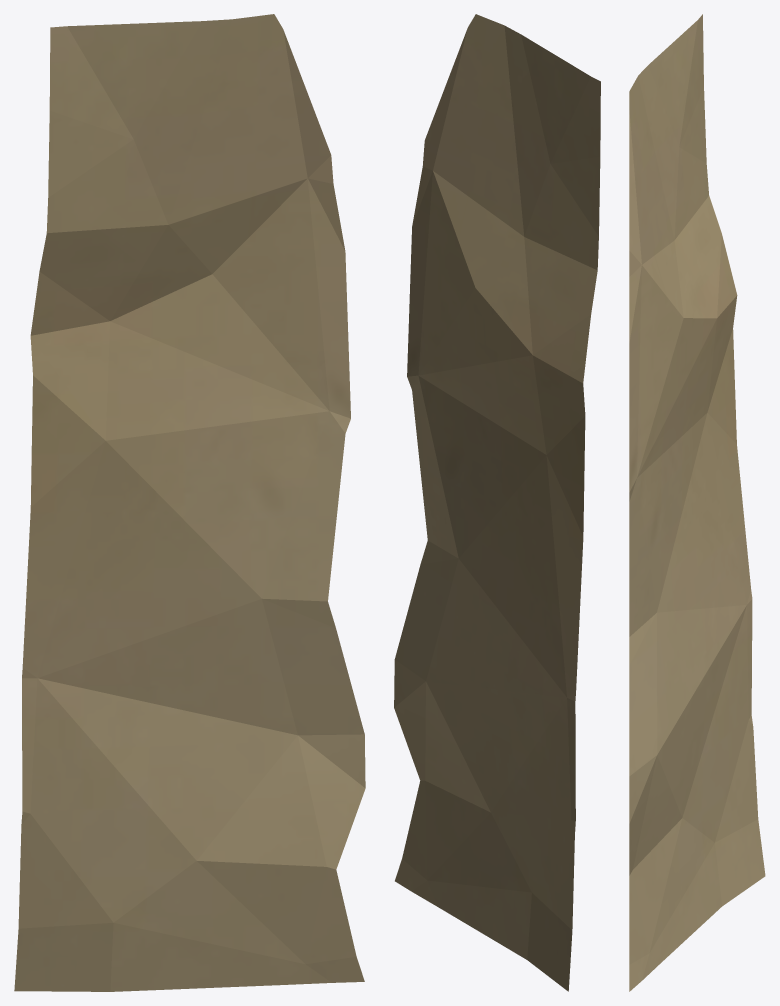
The picture shows the model from 3 angles, left to right: view 1: azimuth 30°, elevation 25°; view 2: azimuth 150°, elevation 25°; view 3: azimuth 270°, elevation 25°; orthographic projection. The views are drawn at different scales.
Bounding box in the file's own units: 0.2417 × 0.8374 × 0.1198.
1 material, 1 textured.
